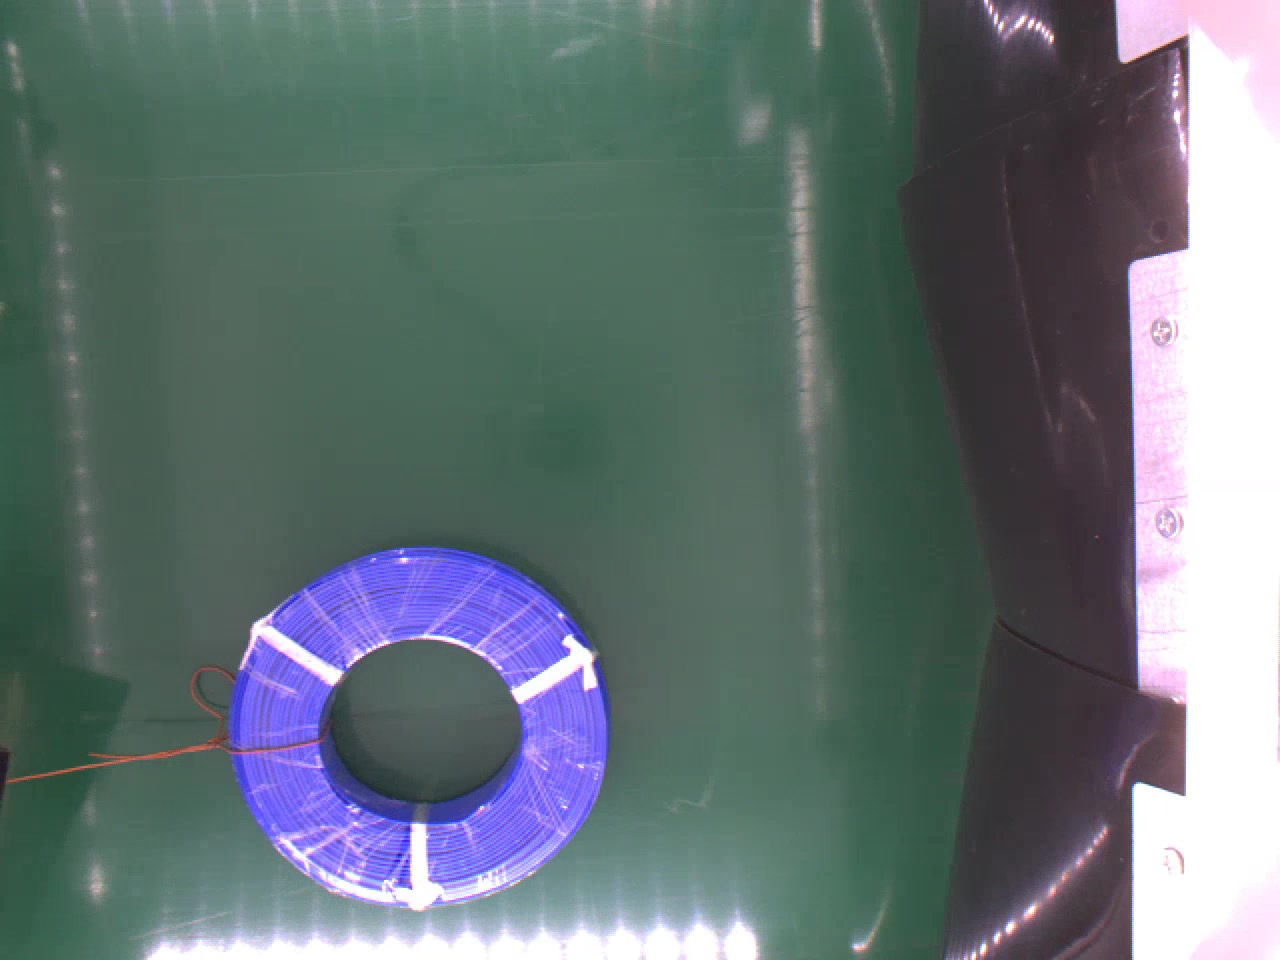blue: (227, 539, 611, 911)
